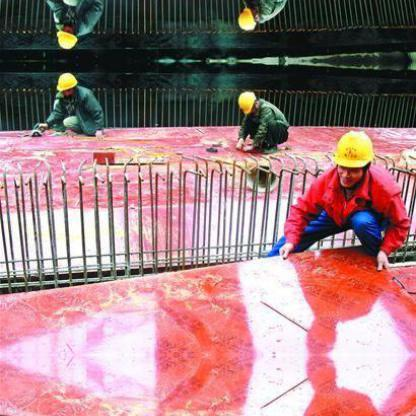helmet: (328, 126, 376, 185), (53, 69, 77, 98), (53, 21, 77, 50), (235, 88, 258, 115), (235, 4, 258, 31)
person: (272, 130, 408, 270), (40, 69, 106, 139), (232, 88, 293, 151), (40, 0, 107, 50), (231, 0, 293, 31)
